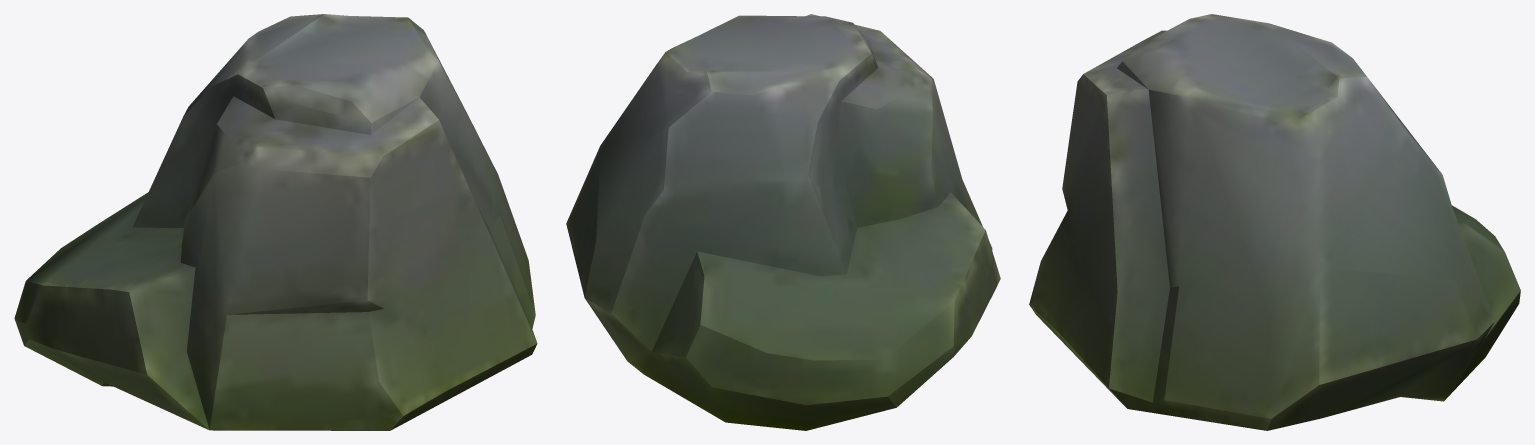
The model's file is Rock_Medium_1.glb.
3 renders of one model, left to right at view 1: azimuth 30°, elevation 25°; view 2: azimuth 150°, elevation 25°; view 3: azimuth 270°, elevation 25°, orthographic. The views are drawn at different scales.
Visible parts, largest first — view 1: Rock_Medium_1; view 2: Rock_Medium_1; view 3: Rock_Medium_1.
Part boxes in pixels (x1,y1,x2,y2): Rock_Medium_1: (14,14,537,430); Rock_Medium_1: (566,14,1000,430); Rock_Medium_1: (1029,14,1520,430).
Size of the model in its own units: 3.23 by 2.26 by 2.99.
1 material, 1 textured.
